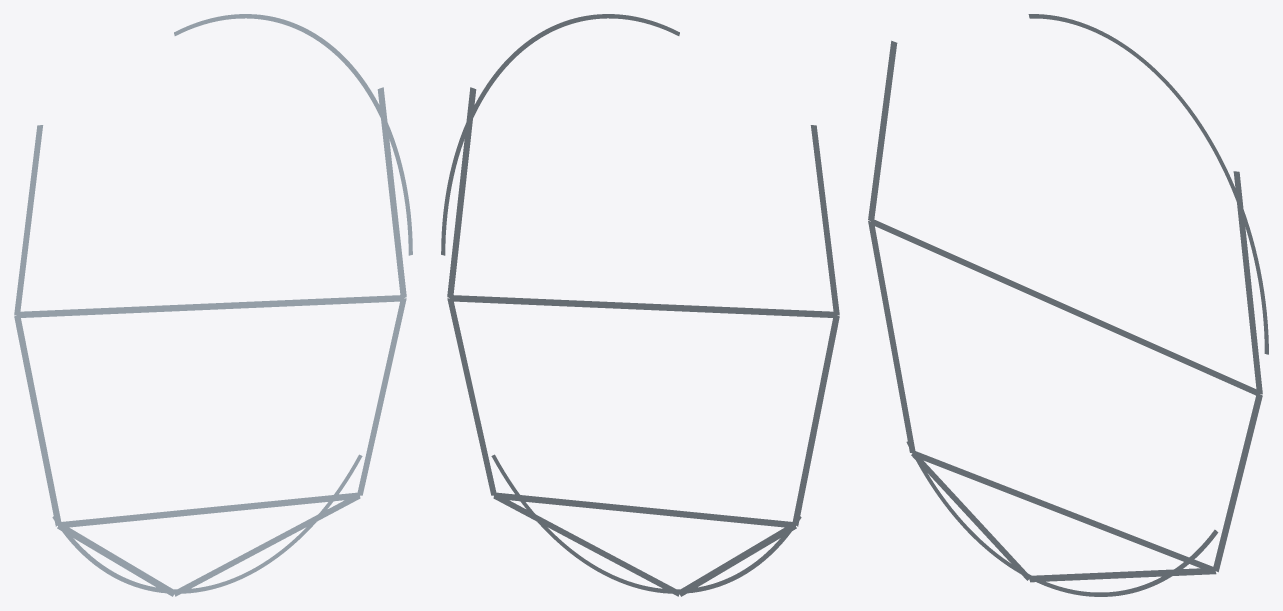
The model's file is Mona_StellarisPhantasm_WithStateHandoff_OmenConstellationLines.fbx.
3 views of the same model, side by side, from view 1: azimuth 30°, elevation 25°; view 2: azimuth 150°, elevation 25°; view 3: azimuth 330°, elevation 25° (orthographic).
Visible parts, largest first — view 1: PART_AuthoredAstralLink_1_5, PART_AuthoredAstralLink_2_4, PART_AuthoredOpenAstrolabeArc_0, PART_AuthoredOpenAstrolabeArc_1, PART_AuthoredAstralLink_1_2, PART_AuthoredAstralLink_5_6, PART_AuthoredAstralLink_3_4, PART_AuthoredAstralLink_4_5, PART_AuthoredAstralLink_0_1, PART_AuthoredAstralLink_2_3; view 2: PART_AuthoredAstralLink_1_5, PART_AuthoredAstralLink_2_4, PART_AuthoredOpenAstrolabeArc_0, PART_AuthoredOpenAstrolabeArc_1, PART_AuthoredAstralLink_1_2, PART_AuthoredAstralLink_5_6, PART_AuthoredAstralLink_3_4, PART_AuthoredAstralLink_4_5, PART_AuthoredAstralLink_0_1, PART_AuthoredAstralLink_2_3; view 3: PART_AuthoredAstralLink_1_5, PART_AuthoredAstralLink_2_4, PART_AuthoredOpenAstrolabeArc_0, PART_AuthoredOpenAstrolabeArc_1, PART_AuthoredAstralLink_1_2, PART_AuthoredAstralLink_5_6, PART_AuthoredAstralLink_3_4, PART_AuthoredAstralLink_4_5, PART_AuthoredAstralLink_0_1, PART_AuthoredAstralLink_2_3.
Boxes of the visible parts, x1=… form: PART_AuthoredAstralLink_1_5: x1=16, y1=295, x2=404, y2=318; PART_AuthoredAstralLink_2_4: x1=59, y1=492, x2=360, y2=527; PART_AuthoredOpenAstrolabeArc_0: x1=174, y1=14, x2=412, y2=255; PART_AuthoredOpenAstrolabeArc_1: x1=52, y1=454, x2=362, y2=593; PART_AuthoredAstralLink_1_2: x1=14, y1=314, x2=61, y2=526; PART_AuthoredAstralLink_5_6: x1=377, y1=87, x2=406, y2=298; PART_AuthoredAstralLink_3_4: x1=174, y1=493, x2=360, y2=596; PART_AuthoredAstralLink_4_5: x1=357, y1=298, x2=406, y2=495; PART_AuthoredAstralLink_0_1: x1=14, y1=125, x2=43, y2=315; PART_AuthoredAstralLink_2_3: x1=57, y1=522, x2=176, y2=596; PART_AuthoredAstralLink_1_5: x1=449, y1=295, x2=836, y2=318; PART_AuthoredAstralLink_2_4: x1=494, y1=492, x2=795, y2=528; PART_AuthoredOpenAstrolabeArc_0: x1=441, y1=14, x2=679, y2=255; PART_AuthoredOpenAstrolabeArc_1: x1=491, y1=454, x2=801, y2=593; PART_AuthoredAstralLink_1_2: x1=792, y1=314, x2=839, y2=526; PART_AuthoredAstralLink_5_6: x1=447, y1=87, x2=476, y2=298; PART_AuthoredAstralLink_3_4: x1=493, y1=493, x2=679, y2=596; PART_AuthoredAstralLink_4_5: x1=447, y1=298, x2=496, y2=495; PART_AuthoredAstralLink_0_1: x1=810, y1=125, x2=839, y2=315; PART_AuthoredAstralLink_2_3: x1=677, y1=522, x2=796, y2=596; PART_AuthoredAstralLink_1_5: x1=870, y1=219, x2=1259, y2=396; PART_AuthoredAstralLink_2_4: x1=912, y1=451, x2=1215, y2=573; PART_AuthoredOpenAstrolabeArc_0: x1=1028, y1=14, x2=1268, y2=354; PART_AuthoredOpenAstrolabeArc_1: x1=906, y1=440, x2=1218, y2=596; PART_AuthoredAstralLink_1_2: x1=868, y1=221, x2=915, y2=453; PART_AuthoredAstralLink_5_6: x1=1233, y1=171, x2=1262, y2=394; PART_AuthoredAstralLink_3_4: x1=1029, y1=567, x2=1216, y2=582; PART_AuthoredAstralLink_4_5: x1=1213, y1=394, x2=1262, y2=572; PART_AuthoredAstralLink_0_1: x1=868, y1=40, x2=897, y2=221; PART_AuthoredAstralLink_2_3: x1=911, y1=452, x2=1030, y2=580.
Bounding box in the file's own units: 172 × 236 × 3.84e-05.
